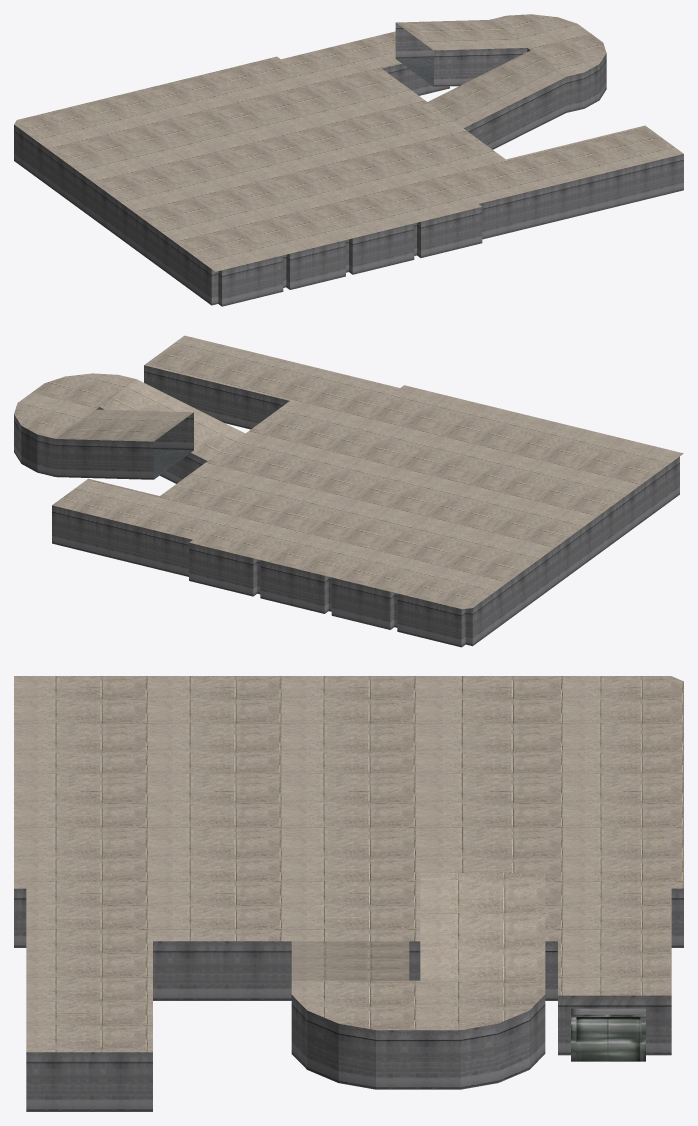
The model's file is vegasnbank1ug.obj.
The picture shows the model from 3 angles, top to bottom: view 1: azimuth 30°, elevation 25°; view 2: azimuth 150°, elevation 25°; view 3: azimuth 270°, elevation 25°; orthographic projection. The views are drawn at different scales.
Parts seen in each view (by area): view 1: vegasNbank1ug; view 2: vegasNbank1ug; view 3: vegasNbank1ug.
Boxes of the visible parts, <box> form: vegasNbank1ug: <box>14,14,683,306</box>; vegasNbank1ug: <box>14,335,683,647</box>; vegasNbank1ug: <box>14,676,683,1111</box>.
Size of the model in its own units: 73.86 by 11.78 by 52.64.
Materials: 6 (6 with a texture image).
